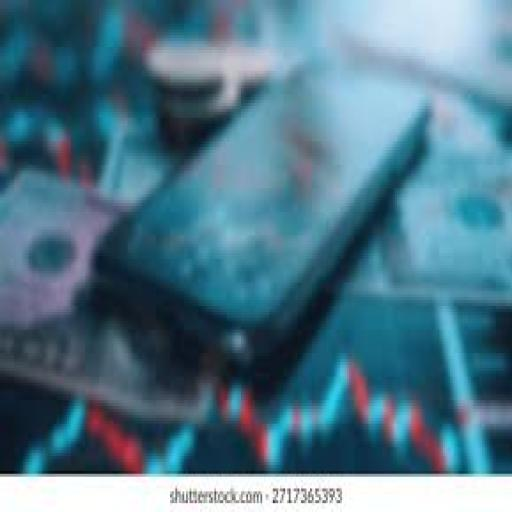phone: (116, 42, 424, 363)
